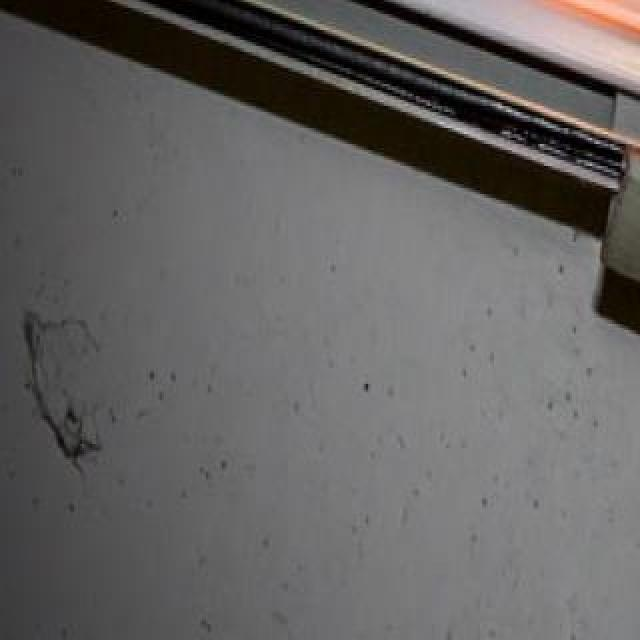fluorescent tube: (0, 0, 640, 58)
